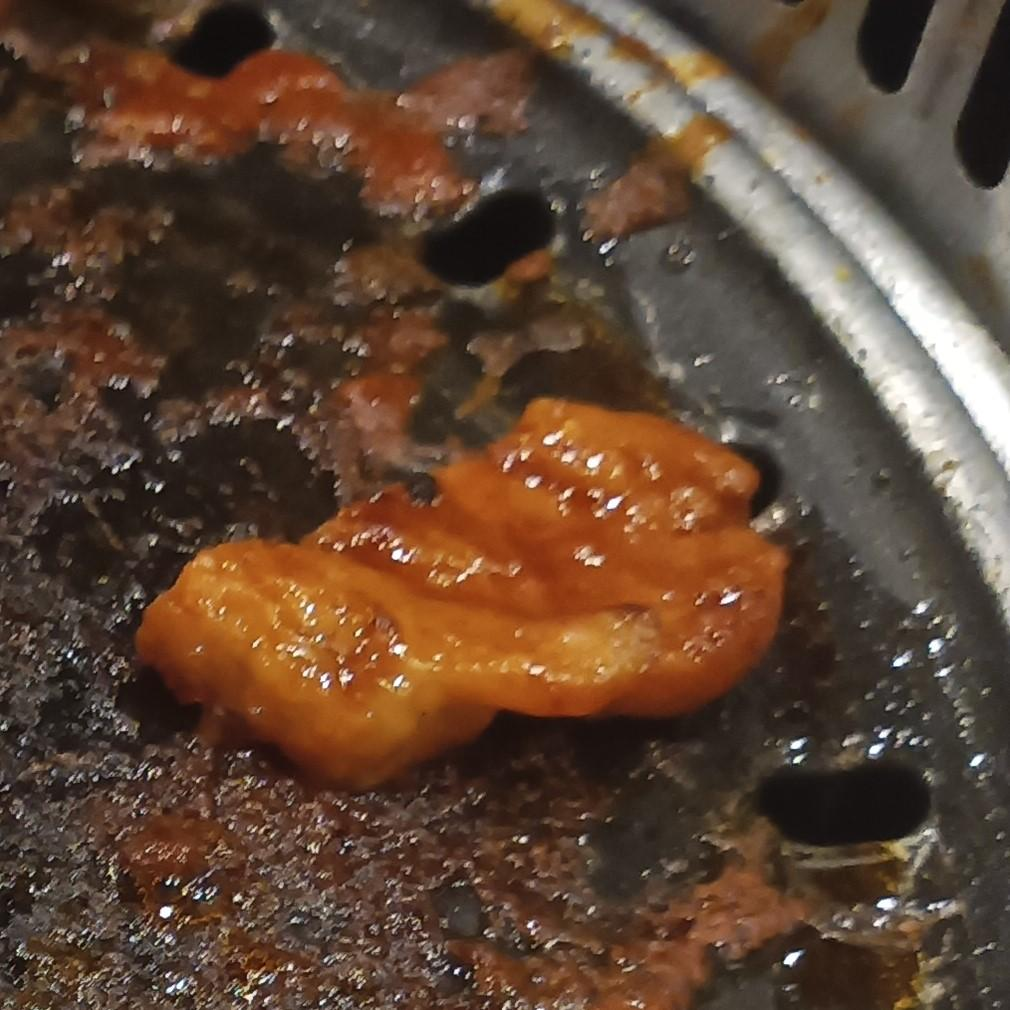Well-Cooked: (136, 399, 785, 788)
